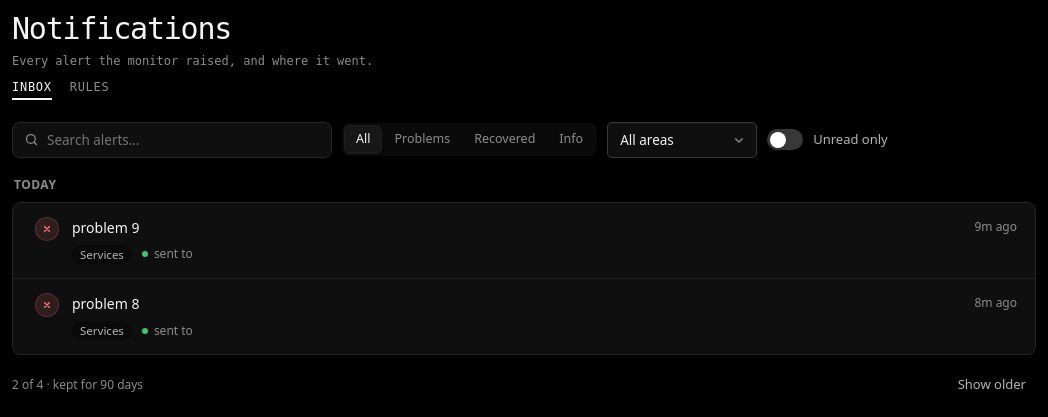
Scenario: notification inbox › says when an older page cannot be loaded
What coordinates should you click on to do the following:
click the button "Show older"
I would click on:
 (992, 385)
Its box is [948,369,1036,401].
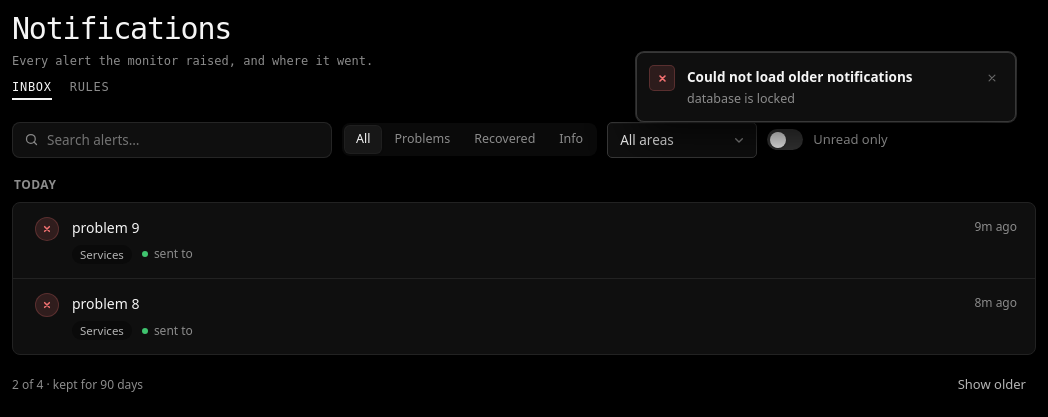
expect the text "problem 9" is shown: met, box [72,218,140,237]
expect the text "Could not load older notifications" is shown: met, box [687,68,912,86]
